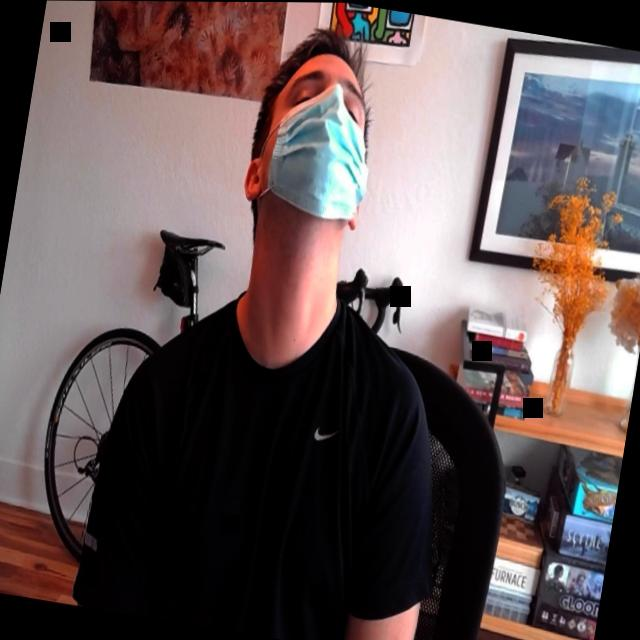Mask: (250, 41, 388, 232)
